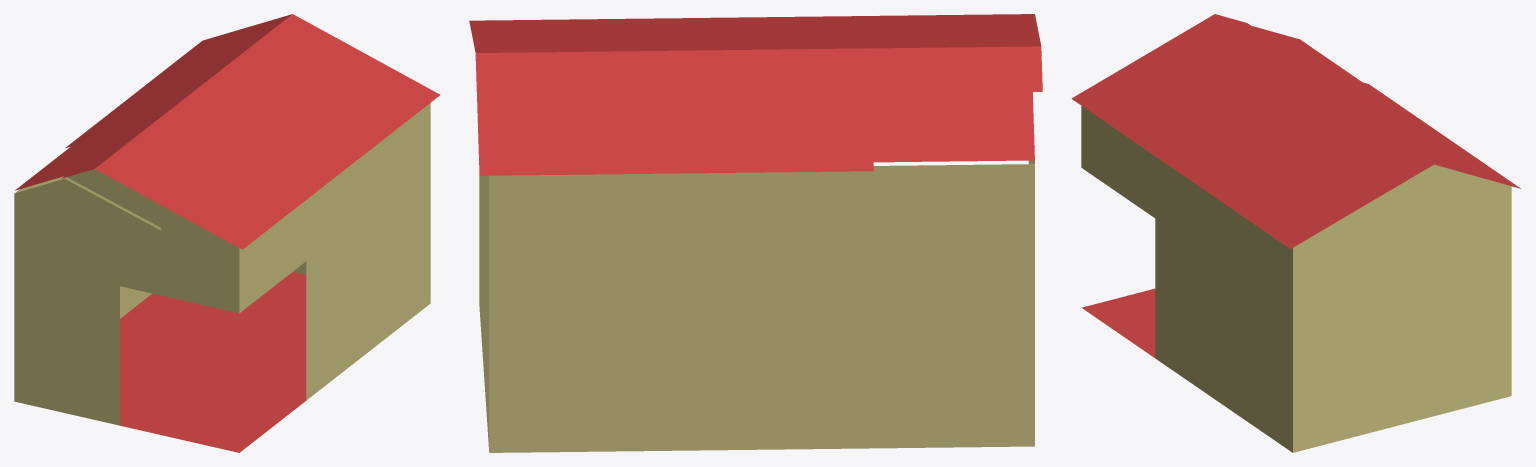
3 views of the same model, side by side, from view 1: azimuth 30°, elevation 25°; view 2: azimuth 150°, elevation 25°; view 3: azimuth 270°, elevation 25° (orthographic). The views are drawn at different scales.
Size of the model in its own units: 16.56 by 15.27 by 9.55.
